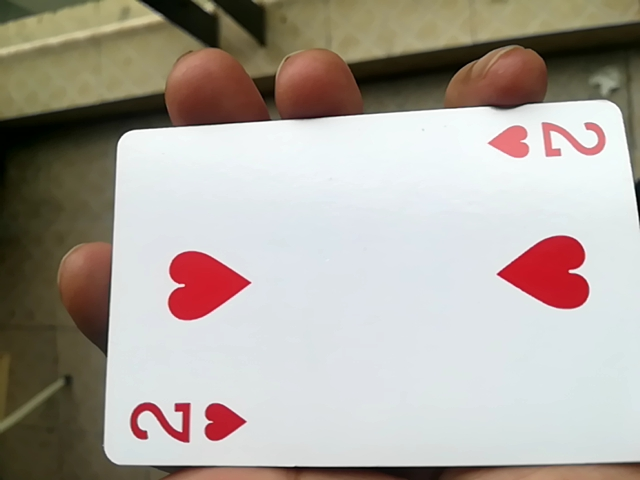hx 2: (84, 103, 637, 479)
